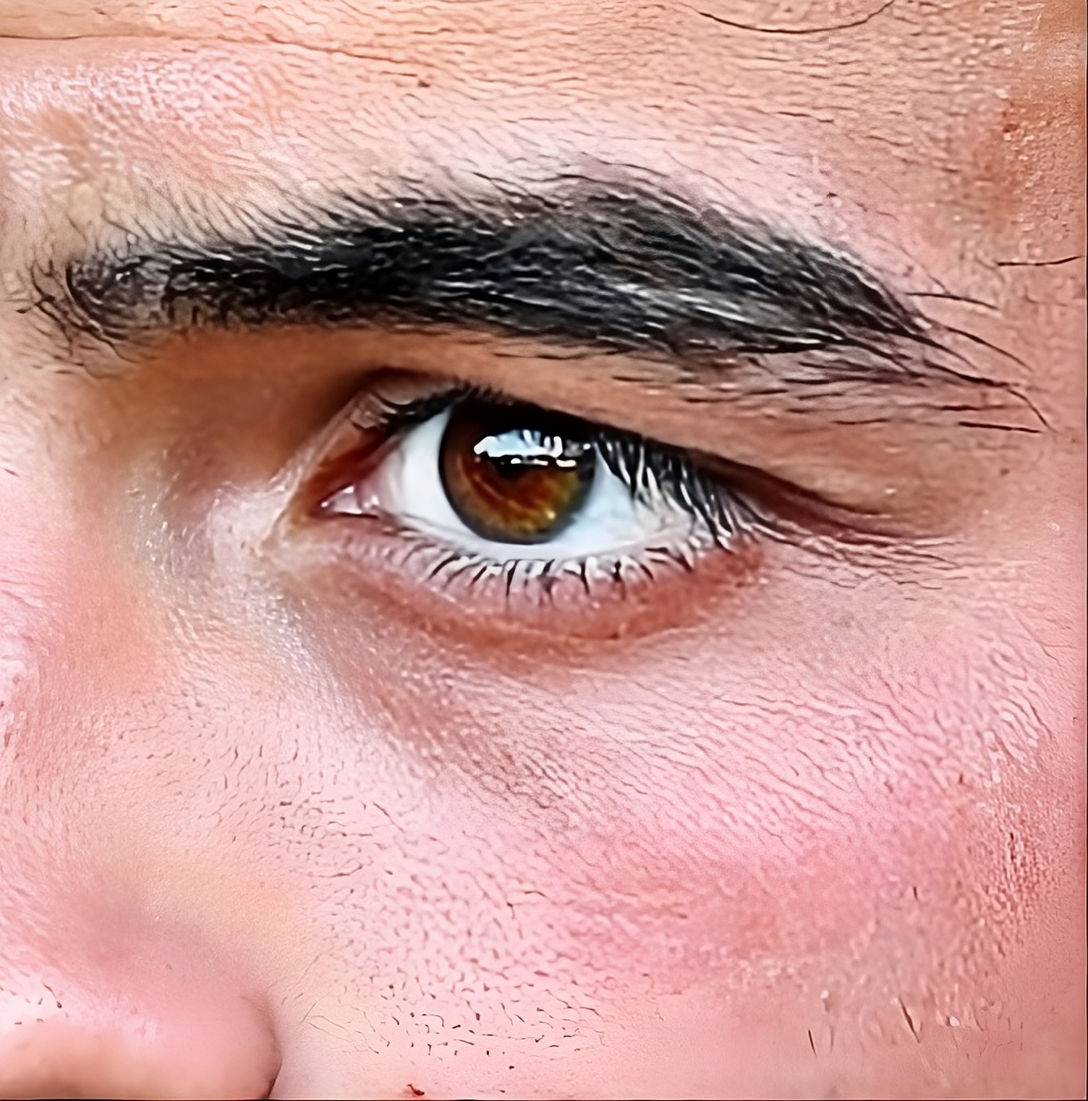iris: (436, 413, 600, 547)
pupil: (489, 431, 542, 483)
sclera: (385, 410, 713, 560)
